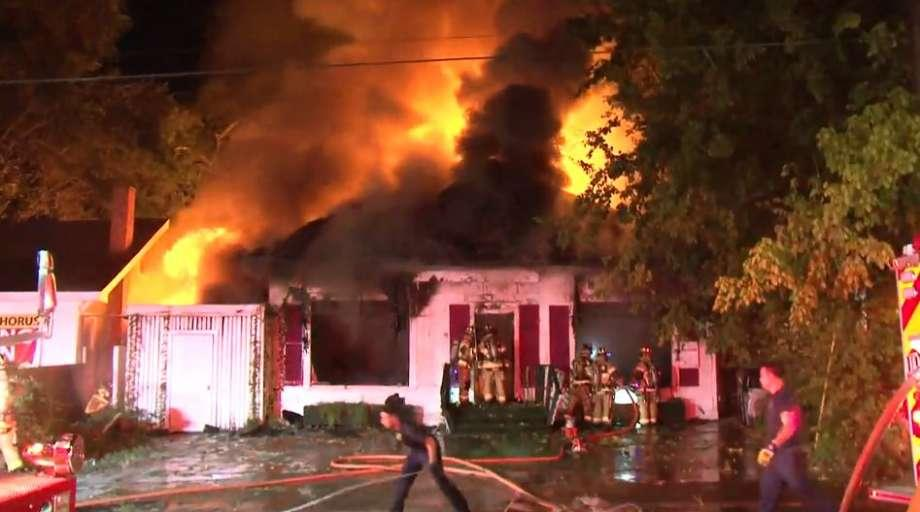Fire: (105, 47, 692, 302)
